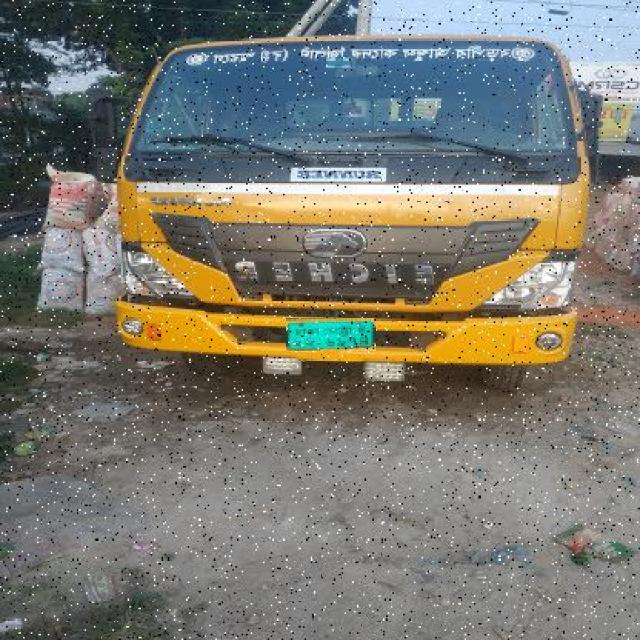numberplate: (286, 318, 376, 351)
